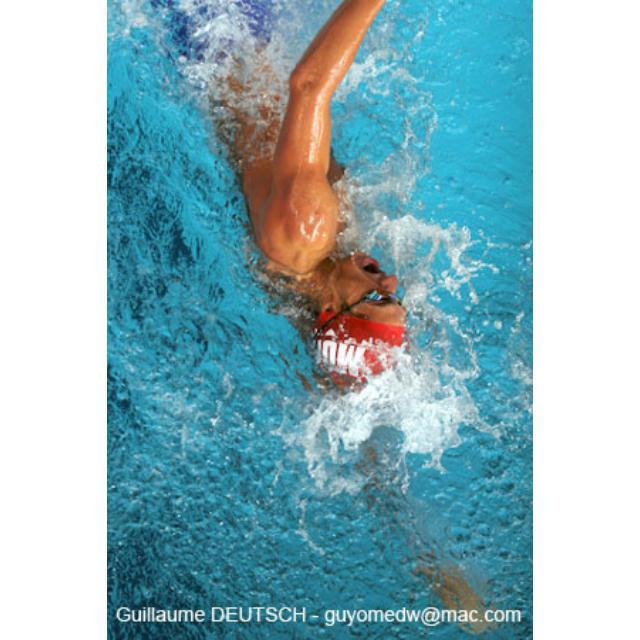human: (193, 4, 406, 406)
